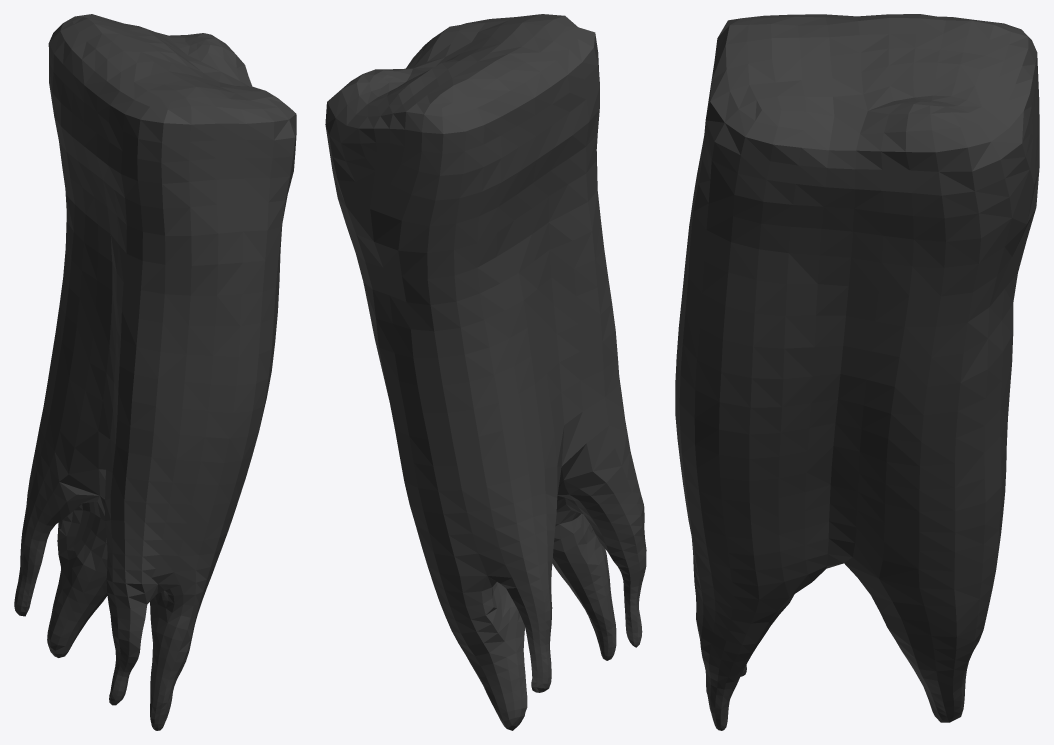
The model's file is L_mand_P3.glb.
3 views of the same model, side by side, from view 1: azimuth 30°, elevation 25°; view 2: azimuth 150°, elevation 25°; view 3: azimuth 270°, elevation 25° (orthographic). The views are drawn at different scales.
Visible parts, largest first — view 1: L_mand_P3; view 2: L_mand_P3; view 3: L_mand_P3.
Boxes of the visible parts, bbox=[...] form: L_mand_P3: bbox=[14, 14, 296, 730]; L_mand_P3: bbox=[325, 14, 646, 730]; L_mand_P3: bbox=[675, 14, 1039, 730].
Bounding box in the file's own units: 0.1124 × 0.3145 × 0.1414.
Materials: 1 (1 with a texture image).
